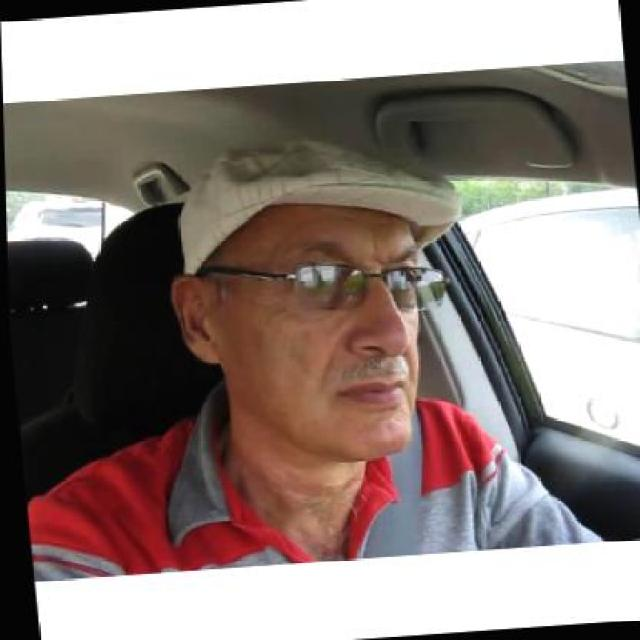attentif: (157, 129, 466, 473)
